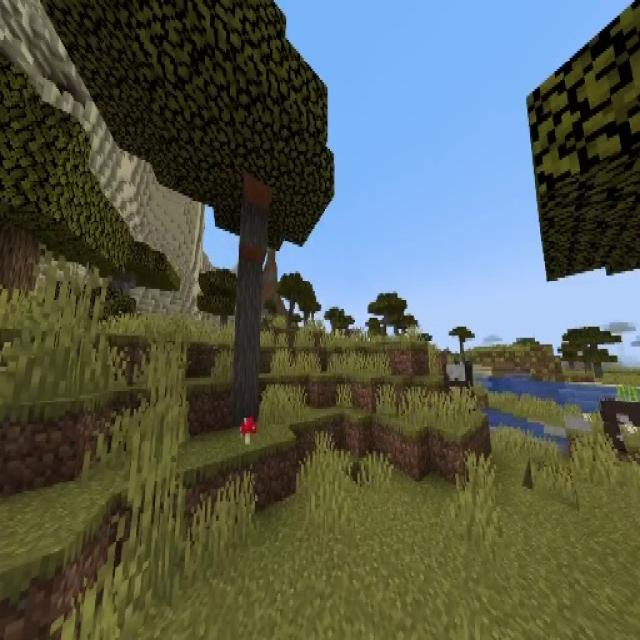acacia: (44, 0, 333, 432)
acacia_log: (234, 182, 266, 430)
oak: (0, 60, 129, 300)
oak_log: (0, 227, 39, 293)
